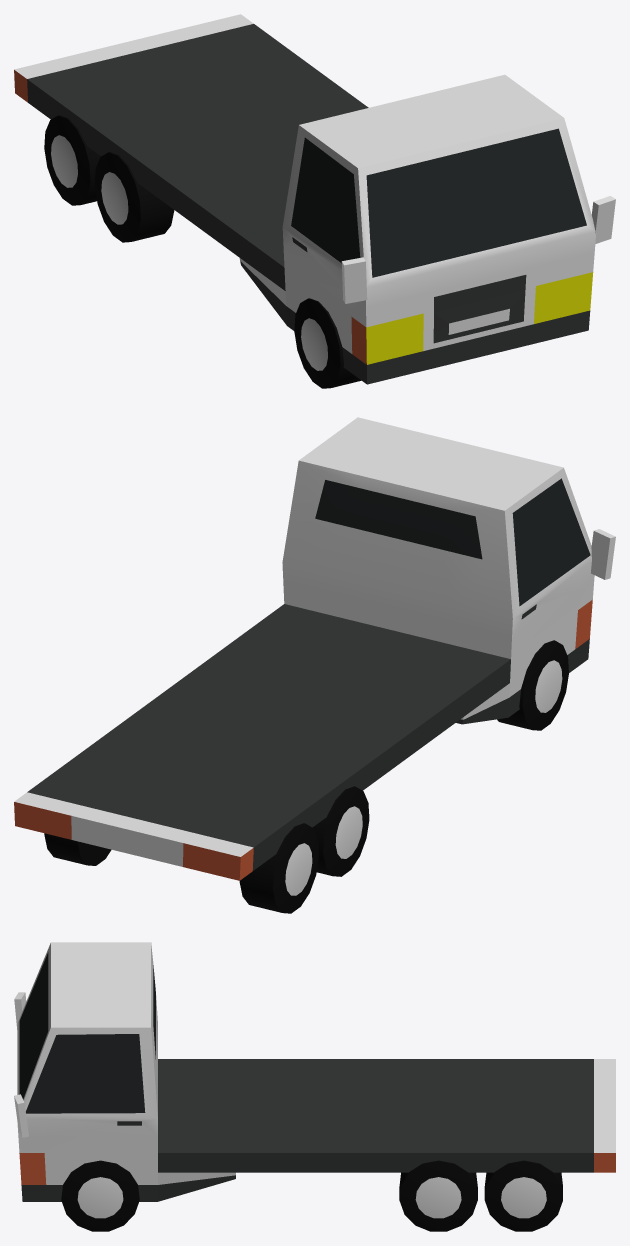
The model's file is Truck2.fbx.
The picture shows the model from 3 angles, top to bottom: view 1: azimuth 30°, elevation 25°; view 2: azimuth 150°, elevation 25°; view 3: azimuth 270°, elevation 25°; orthographic projection. The views are drawn at different scales.
Parts seen in each view (by area): view 1: Body1, WheelRL6, WheelRL2, WheelRL4, pCube3, pCube2; view 2: Body1, WheelRL2, WheelRL6, WheelRL4, WheelRL1, pCube3; view 3: Body1, WheelRL1, WheelRL5, WheelRL3, pCube2.
Boxes of the visible parts, x1,y1,x2,y2 form: Body1: (14, 14, 596, 384); WheelRL6: (94, 152, 174, 242); WheelRL2: (44, 115, 100, 205); WheelRL4: (294, 298, 361, 388); pCube3: (341, 257, 367, 303); pCube2: (591, 196, 615, 243); Body1: (14, 417, 594, 880); WheelRL2: (239, 823, 318, 913); WheelRL6: (313, 786, 369, 876); WheelRL4: (497, 640, 568, 730); WheelRL1: (44, 833, 111, 865); pCube3: (591, 529, 615, 579); Body1: (17, 942, 615, 1201); WheelRL1: (484, 1160, 562, 1231); WheelRL5: (399, 1160, 477, 1231); WheelRL3: (61, 1160, 139, 1231); pCube2: (14, 1094, 28, 1137).
Size of the model in its own units: 3.44 by 2.85 by 7.8.
